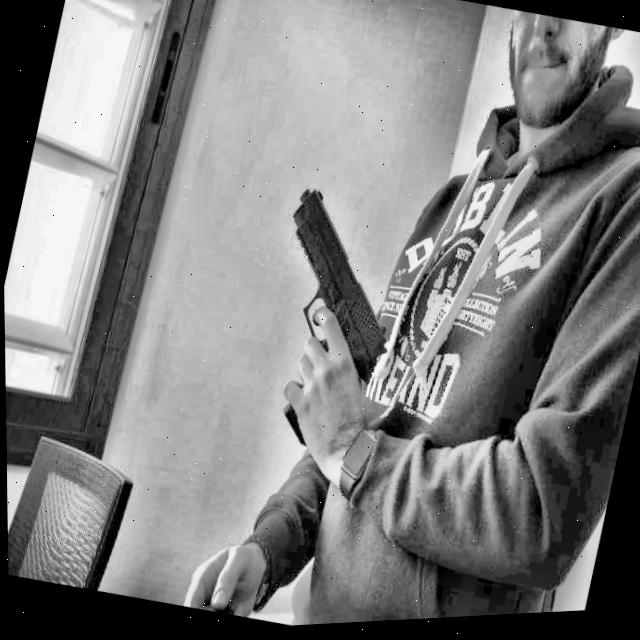pistol: (261, 170, 412, 467)
